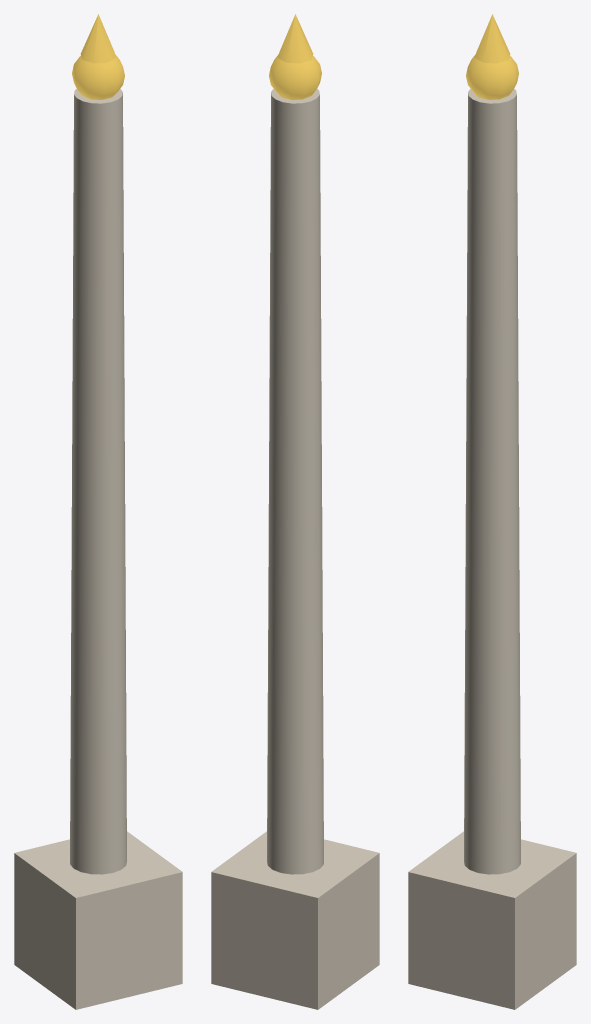
File: monument.glb
3 renders of one model, left to right at view 1: azimuth 30°, elevation 25°; view 2: azimuth 150°, elevation 25°; view 3: azimuth 330°, elevation 25°, orthographic.
Visible parts, largest first — view 1: monument; view 2: monument; view 3: monument.
Boxes of the visible parts, <box> form: monument: <box>14,14,182,1009</box>; monument: <box>211,14,379,1009</box>; monument: <box>408,14,576,1009</box>.
Size of the model in its own units: 0.1078 by 0.9253 by 0.1078.
